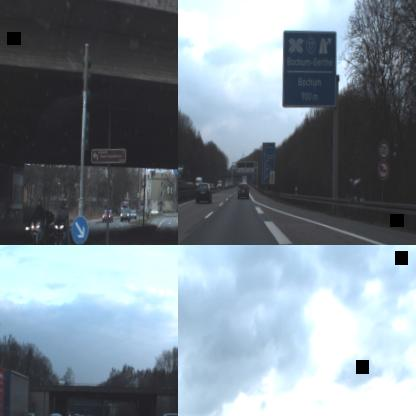keep right: (71, 215, 89, 245)
no overtaking: (377, 160, 390, 180)
speed limit 120: (378, 139, 390, 160)
